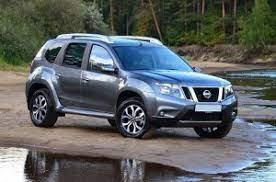car: (22, 25, 248, 152)
